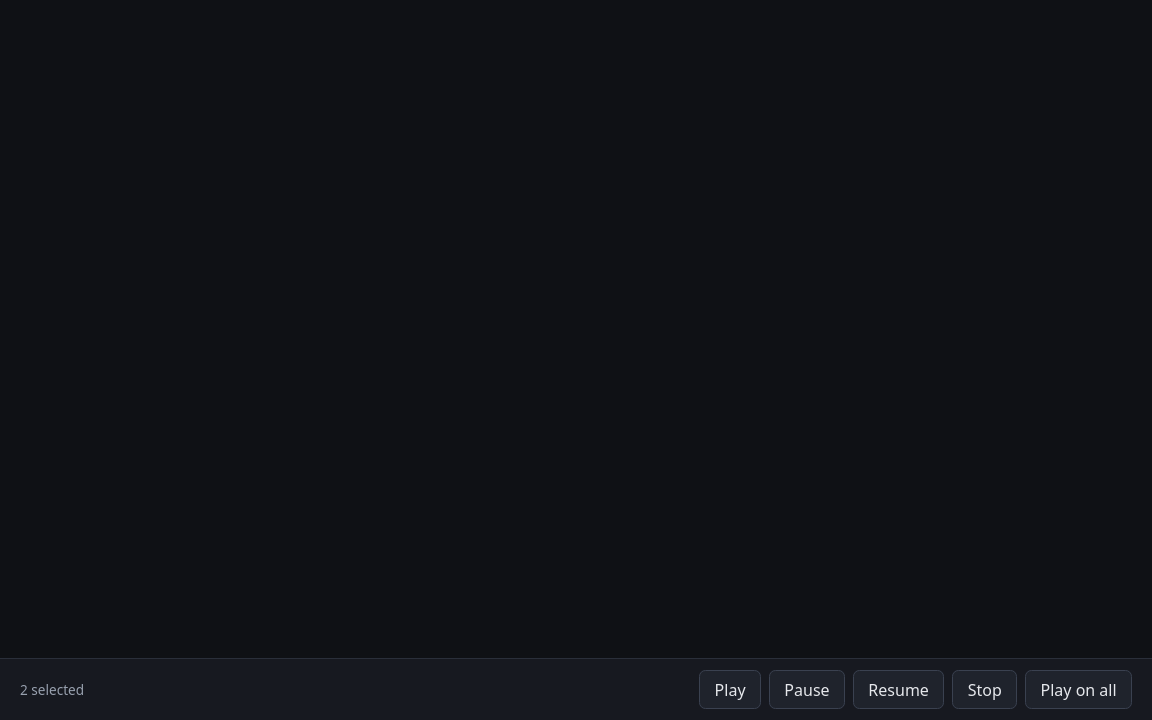
reporting the result › confirms a command every TV accepted
The width and height of the screenshot is (1152, 720).
Click the button "Play" at (730, 690), box x1=699 y1=670 x2=761 y2=709
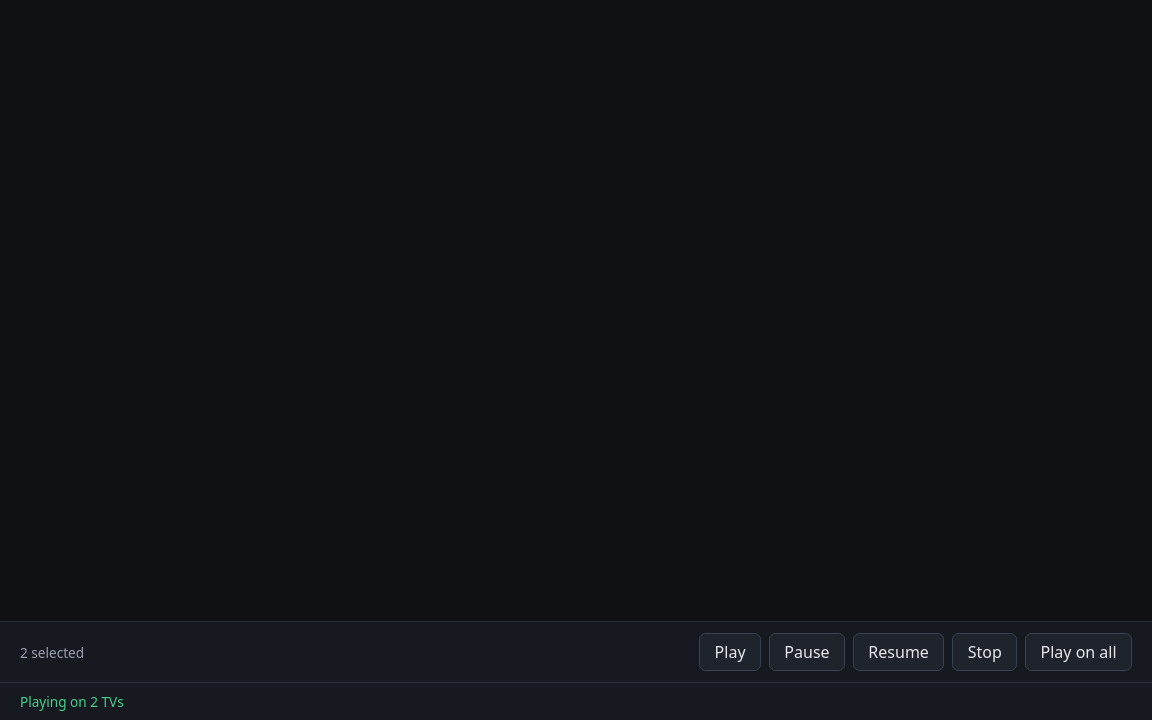
Expected: the message reads "Playing on 2 TVs", x1=20 y1=692 x2=124 y2=711
